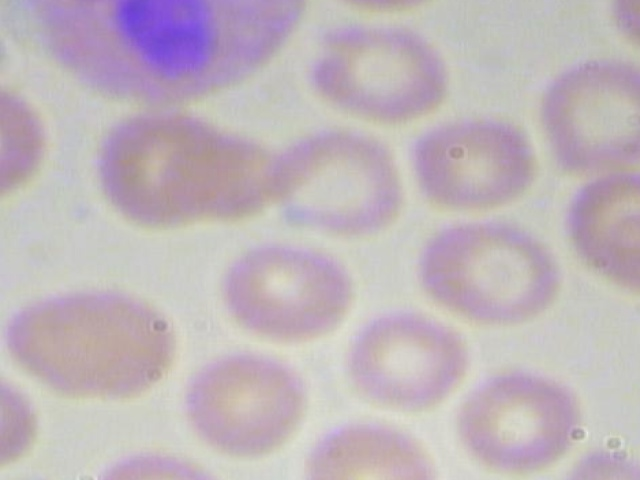RBC: (0, 277, 183, 398), (181, 344, 323, 461), (419, 213, 560, 330), (217, 229, 358, 346), (258, 126, 409, 233), (306, 16, 456, 123), (338, 308, 470, 416), (454, 367, 586, 475), (408, 109, 540, 217), (531, 51, 640, 179), (559, 164, 640, 292), (0, 82, 51, 210), (0, 354, 48, 480)
WBC: (7, 0, 313, 110)
